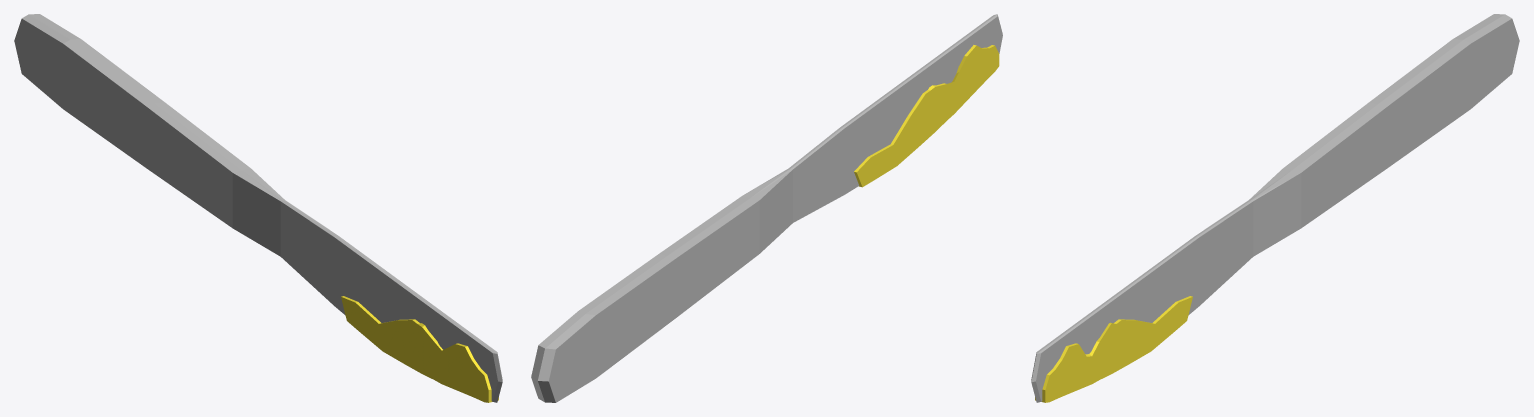
The model's file is buttered-knife.glb.
3 views of the same model, side by side, from view 1: azimuth 30°, elevation 25°; view 2: azimuth 150°, elevation 25°; view 3: azimuth 330°, elevation 25° (orthographic). The views are drawn at different scales.
Parts seen in each view (by area): view 1: Node, Cube; view 2: Node, Cube; view 3: Node, Cube.
Part boxes in pixels (box(x1,y1,x2,y2)): Node: box(14, 14, 502, 402); Cube: box(341, 296, 498, 402); Node: box(531, 14, 1002, 402); Cube: box(854, 45, 999, 187); Node: box(1031, 14, 1519, 402); Cube: box(1035, 296, 1192, 402).
Size of the model in its own units: 0.053 by 0.2167 by 2.42.
